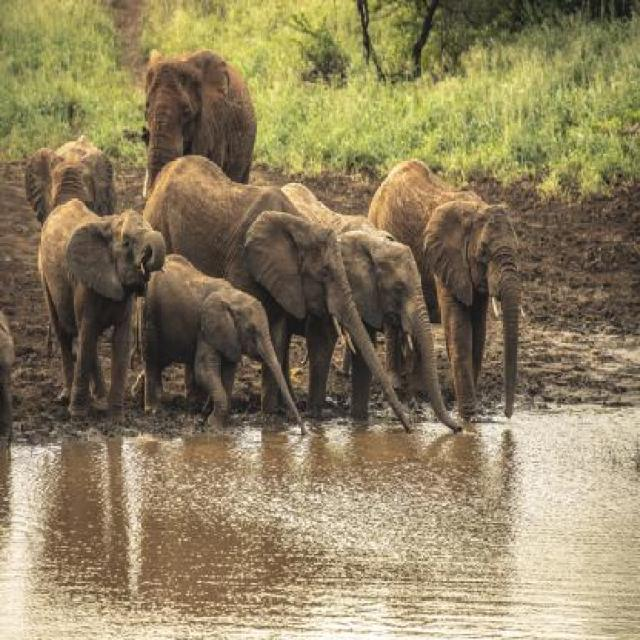Elephant: (140, 165, 415, 440), (284, 179, 473, 436), (368, 160, 530, 428), (36, 194, 170, 426), (142, 251, 308, 438)
